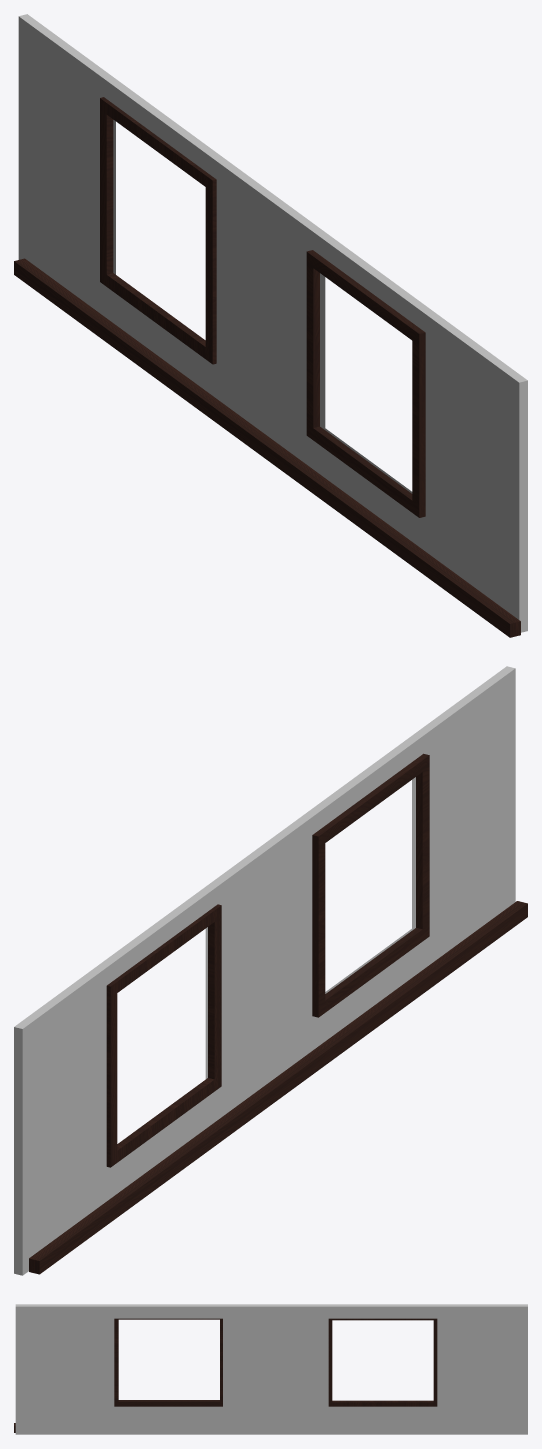
The model's file is WindowWall.fbx.
The picture shows the model from 3 angles, top to bottom: view 1: azimuth 30°, elevation 25°; view 2: azimuth 150°, elevation 25°; view 3: azimuth 270°, elevation 25°; orthographic projection. The views are drawn at different scales.
Parts seen in each view (by area): view 1: pCube5, polySurface4, pCube3, pCube4; view 2: pCube5, polySurface4, pCube3, pCube4; view 3: pCube5, pCube4, pCube3.
Part boxes in pixels (<box>): pCube5: <box>18,14,527,632</box>; polySurface4: <box>14,258,520,637</box>; pCube3: <box>306,250,425,517</box>; pCube4: <box>100,97,216,364</box>; pCube5: <box>14,666,515,1275</box>; polySurface4: <box>29,901,527,1274</box>; pCube3: <box>312,753,429,1017</box>; pCube4: <box>106,904,221,1167</box>; pCube5: <box>15,1304,527,1434</box>; pCube4: <box>328,1318,437,1406</box>; pCube3: <box>114,1318,222,1406</box>.
Size of the model in its own units: 0.6889 by 8.38 by 30.36.
